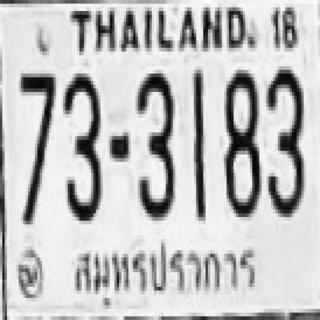N01: (191, 68, 203, 219)
N03: (265, 66, 302, 213), (136, 70, 173, 217), (62, 72, 99, 219)
N07: (19, 70, 54, 221)
N08: (222, 66, 259, 213)
P13: (65, 237, 264, 314)
